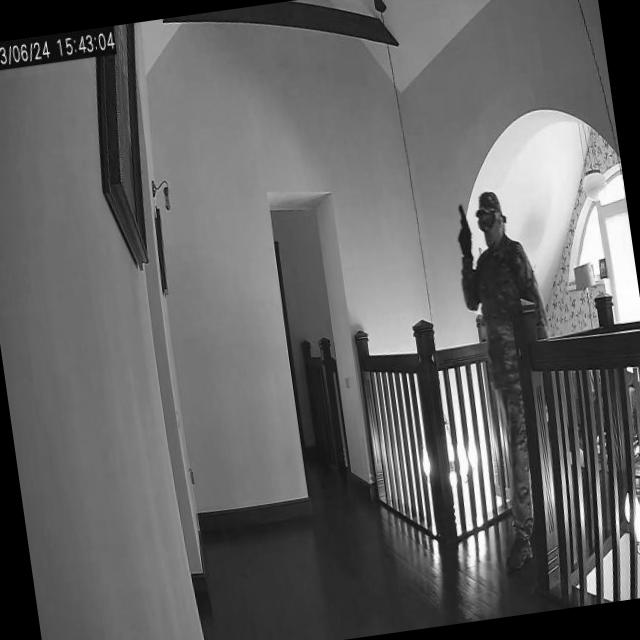gun: (455, 202, 476, 253)
person with a gun: (450, 188, 564, 566)
